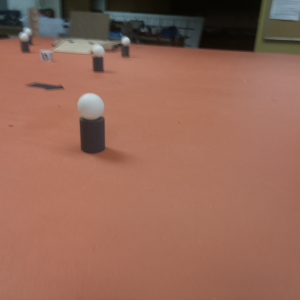obstacle: (78, 94, 104, 151), (92, 44, 105, 74), (20, 32, 29, 53), (121, 36, 129, 57)
